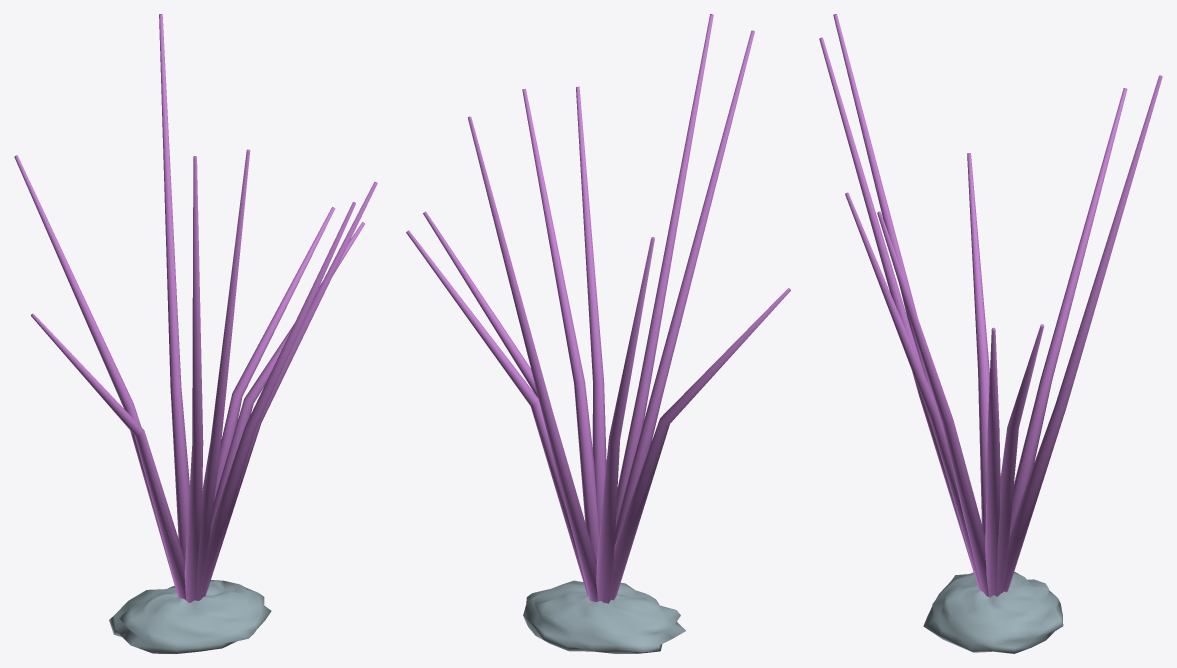
File: underwater-reef-worlds-sea-whips-63895a70__7008.glb
The picture shows the model from 3 angles, left to right: view 1: azimuth 30°, elevation 25°; view 2: azimuth 150°, elevation 25°; view 3: azimuth 270°, elevation 25°; orthographic projection. The views are drawn at different scales.
Visible parts, largest first — view 1: sea-whips; view 2: sea-whips; view 3: sea-whips.
Boxes of the visible parts, box(x1,y1,x2,y2) form: sea-whips: box(14, 14, 377, 653); sea-whips: box(406, 14, 790, 653); sea-whips: box(819, 14, 1162, 653).
Size of the model in its own units: 1.2 by 1.8 by 0.985.
